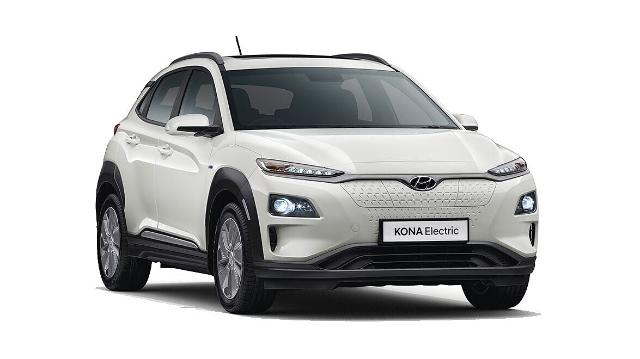hyundai: (94, 35, 540, 313)
